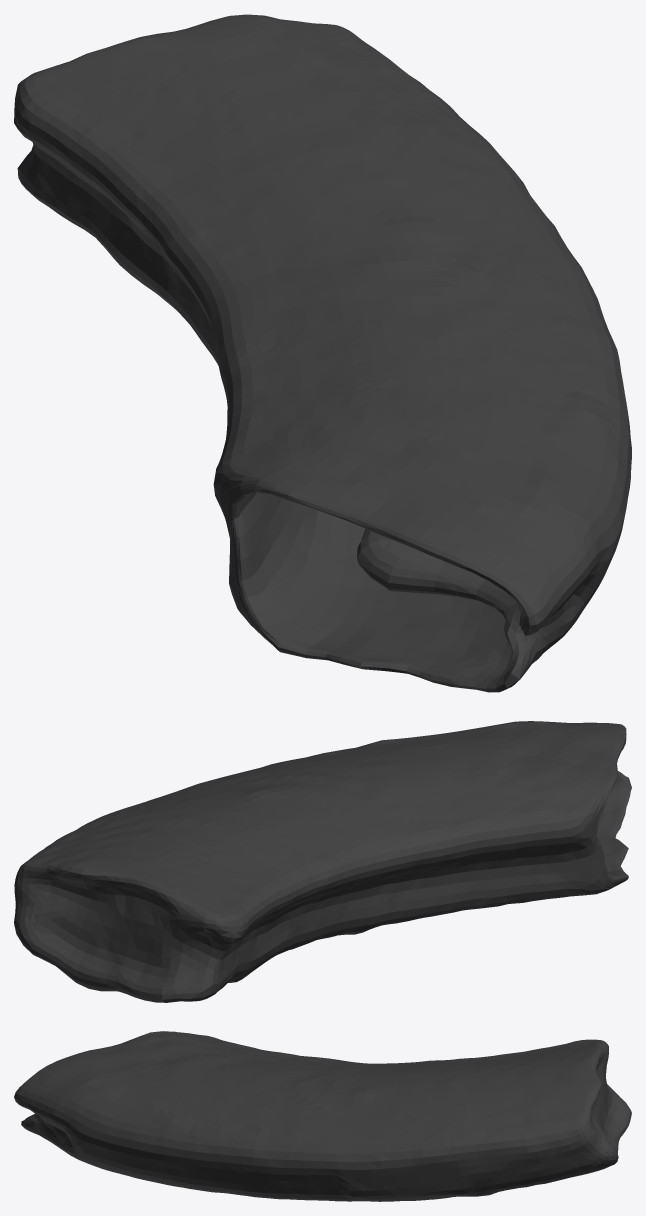
File: tooth_rabbit_107_low.glb
3 views of the same model, one above another, from view 1: azimuth 30°, elevation 25°; view 2: azimuth 150°, elevation 25°; view 3: azimuth 270°, elevation 25° (orthographic). The views are drawn at different scales.
Parts seen in each view (by area): view 1: tooth_rabbit_107_low; view 2: tooth_rabbit_107_low; view 3: tooth_rabbit_107_low.
Boxes of the visible parts, <box> form: tooth_rabbit_107_low: <box>14,14,631,692</box>; tooth_rabbit_107_low: <box>14,721,631,1002</box>; tooth_rabbit_107_low: <box>14,1031,631,1201</box>.
Bounding box in the file's own units: 0.6523 × 0.3139 × 1.28.
1 material, 1 textured.
